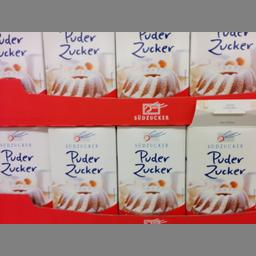sugar: (186, 116, 254, 218), (116, 127, 186, 214), (46, 126, 116, 212), (114, 31, 188, 97), (41, 31, 114, 96), (190, 31, 255, 97), (0, 126, 48, 204), (0, 32, 42, 93)
